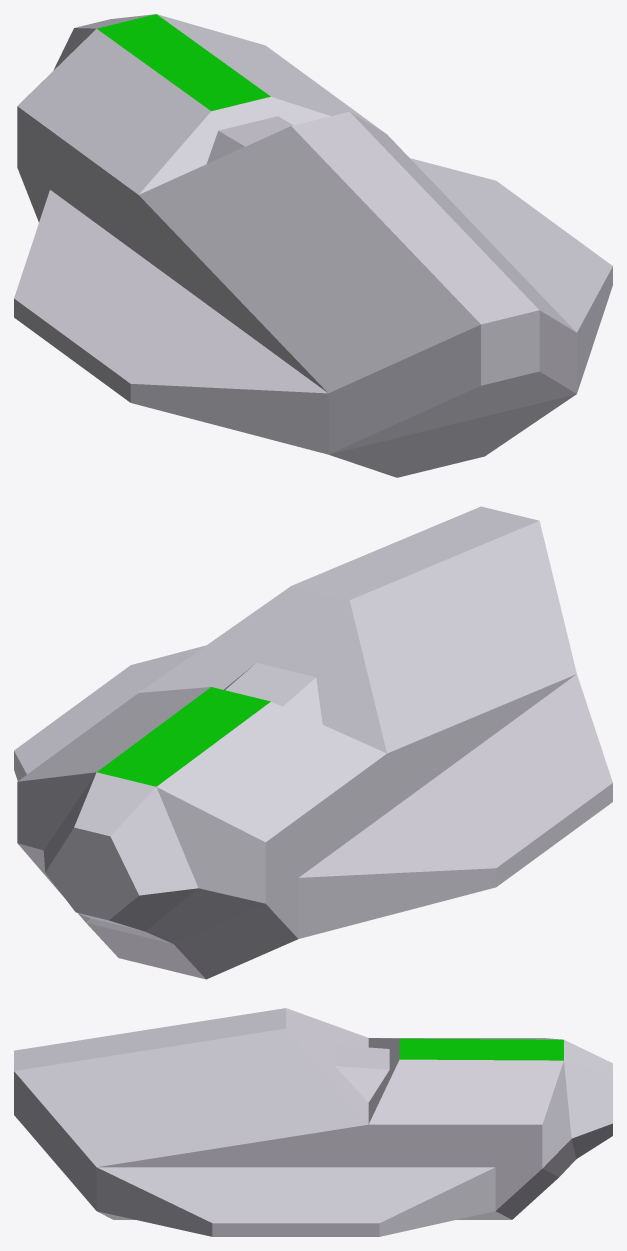
Rendered from block.bird.fbx.
3 views of the same model, one above another, from view 1: azimuth 30°, elevation 25°; view 2: azimuth 150°, elevation 25°; view 3: azimuth 270°, elevation 25° (orthographic). The views are drawn at different scales.
Parts seen in each view (by area): view 1: block.bird; view 2: block.bird; view 3: block.bird.
Part boxes in pixels (box(x1,y1,x2,y2)): block.bird: box(14, 14, 612, 477); block.bird: box(14, 506, 612, 979); block.bird: box(14, 1008, 612, 1236).
Size of the model in its own units: 2.39 by 1.23 by 3.59.
